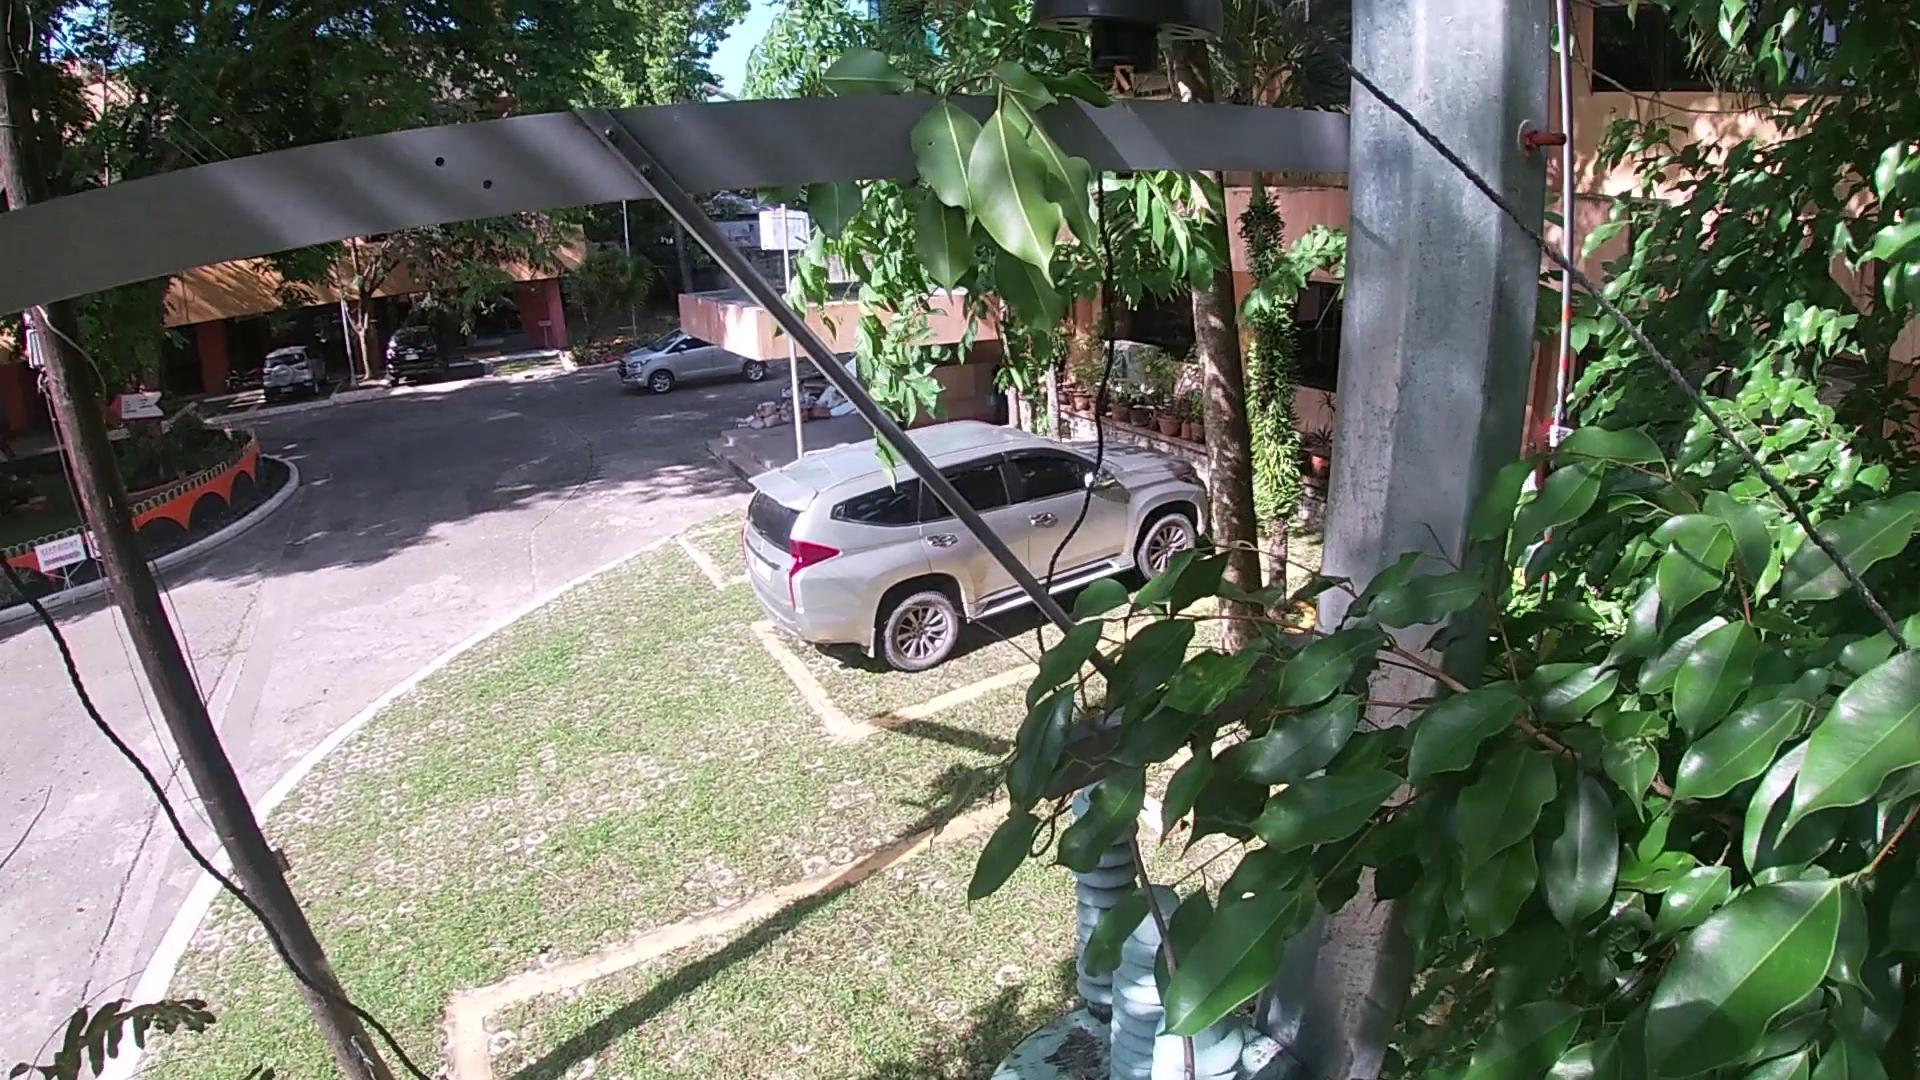branch with leaves: (761, 20, 1156, 361)
tree branch: (1047, 600, 1222, 1080)
